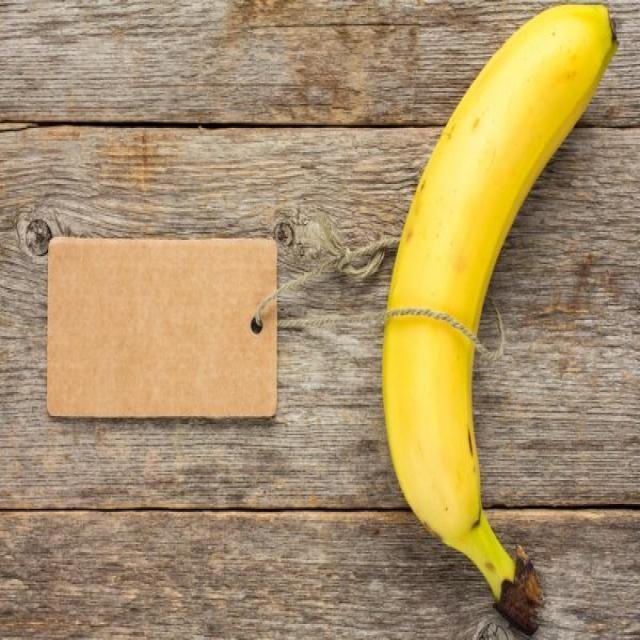Banana: (381, 0, 624, 640)
